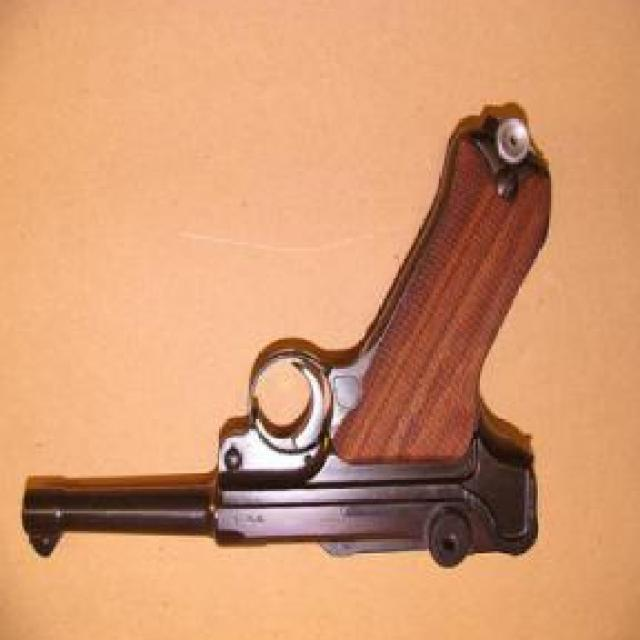pistol: (20, 115, 553, 569)
